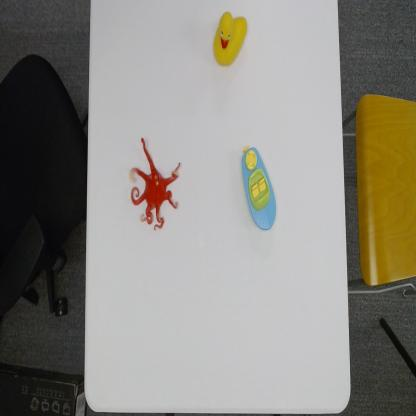Boat: (240, 144, 278, 233)
Duck: (212, 10, 249, 68)
Octopus: (127, 136, 183, 232)
